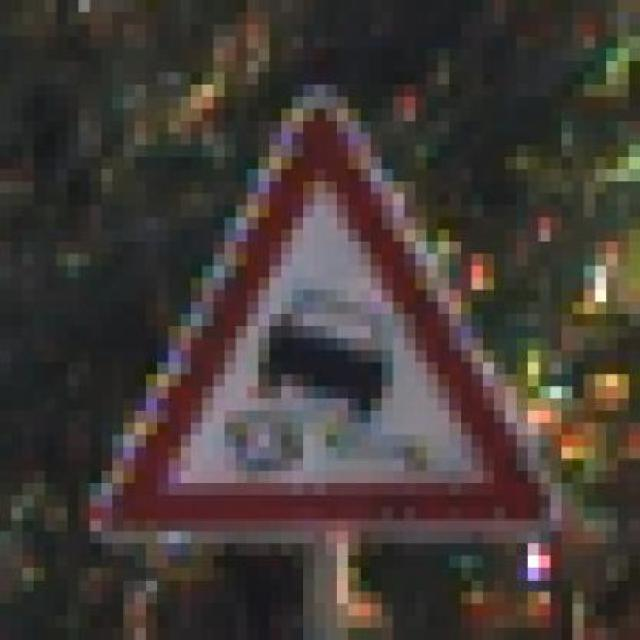Slippery Road Ahead: (79, 72, 562, 543)
